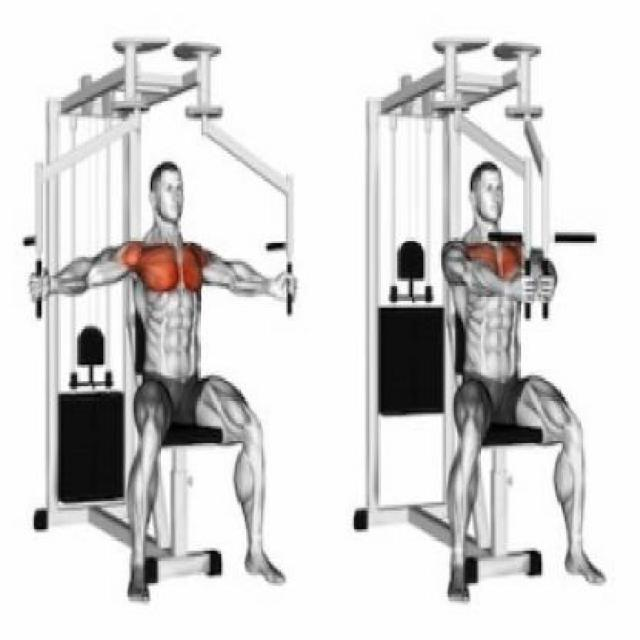chest fly machine: (18, 10, 314, 608), (336, 20, 612, 612)
